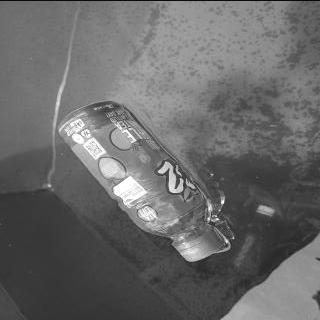bottle: (55, 100, 224, 262)
